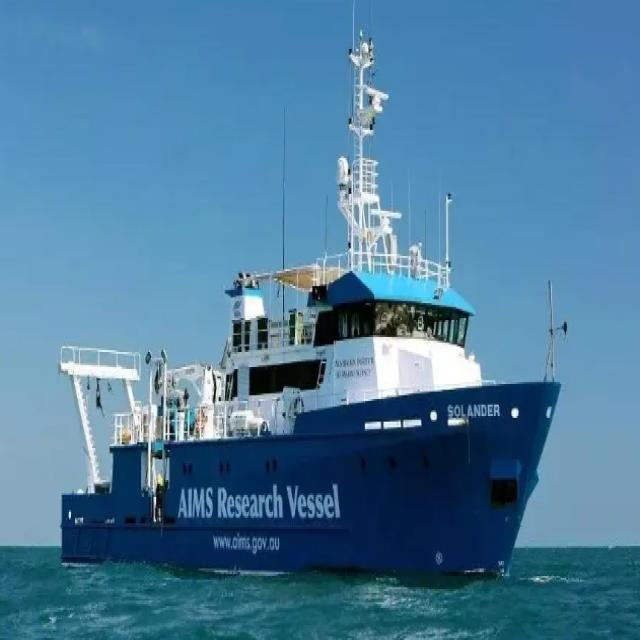navalvessels: (58, 39, 564, 580)
